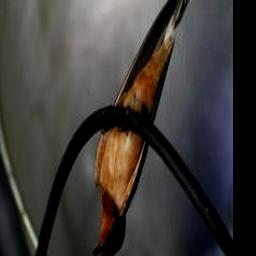Swallow: (88, 0, 206, 256)
